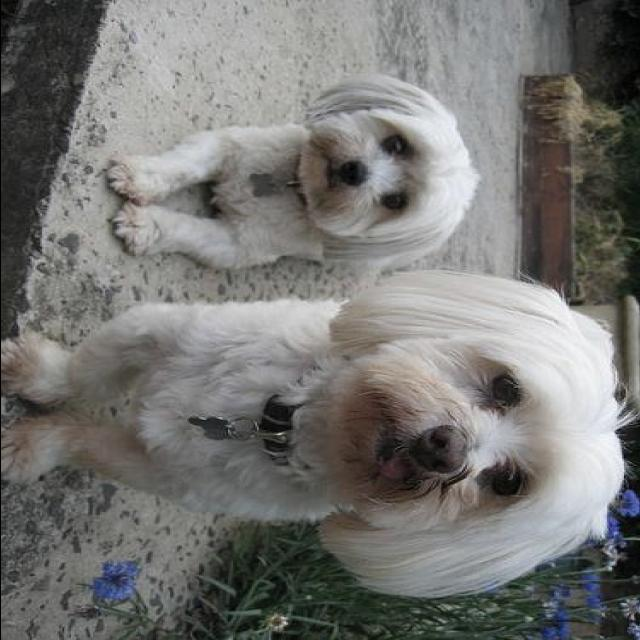maltese_dog: (2, 270, 635, 596), (102, 77, 482, 267)
